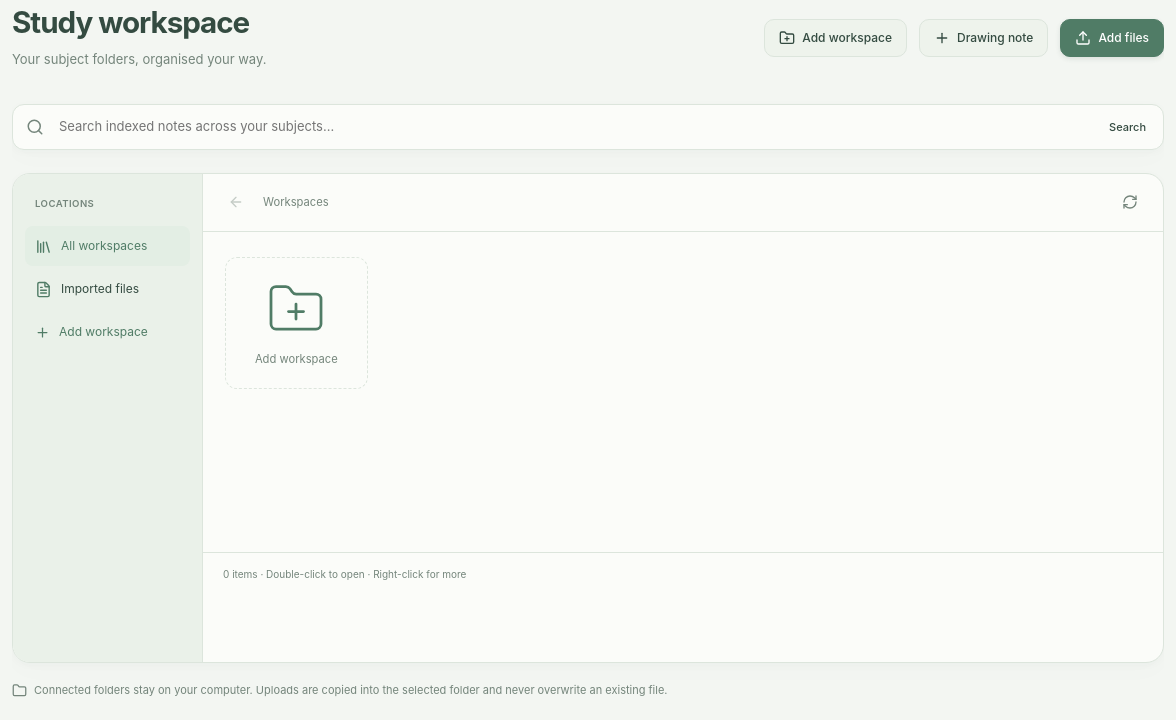
Scenario: workspace search result layout › groups slide matches into one compact file row and also finds filenames
Type "L2" into the field. click: [572, 127]
box: [52,110,1091,144]
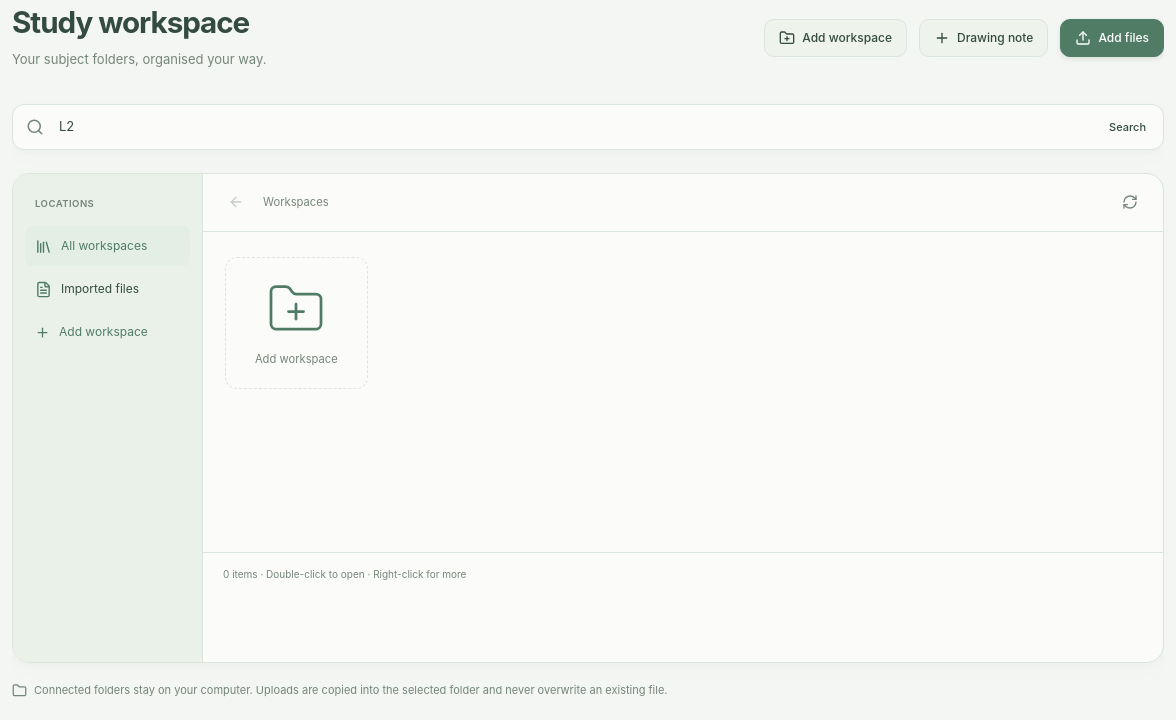
Click the button "Search". click: [1128, 127]
box: [1099,113,1156,141]
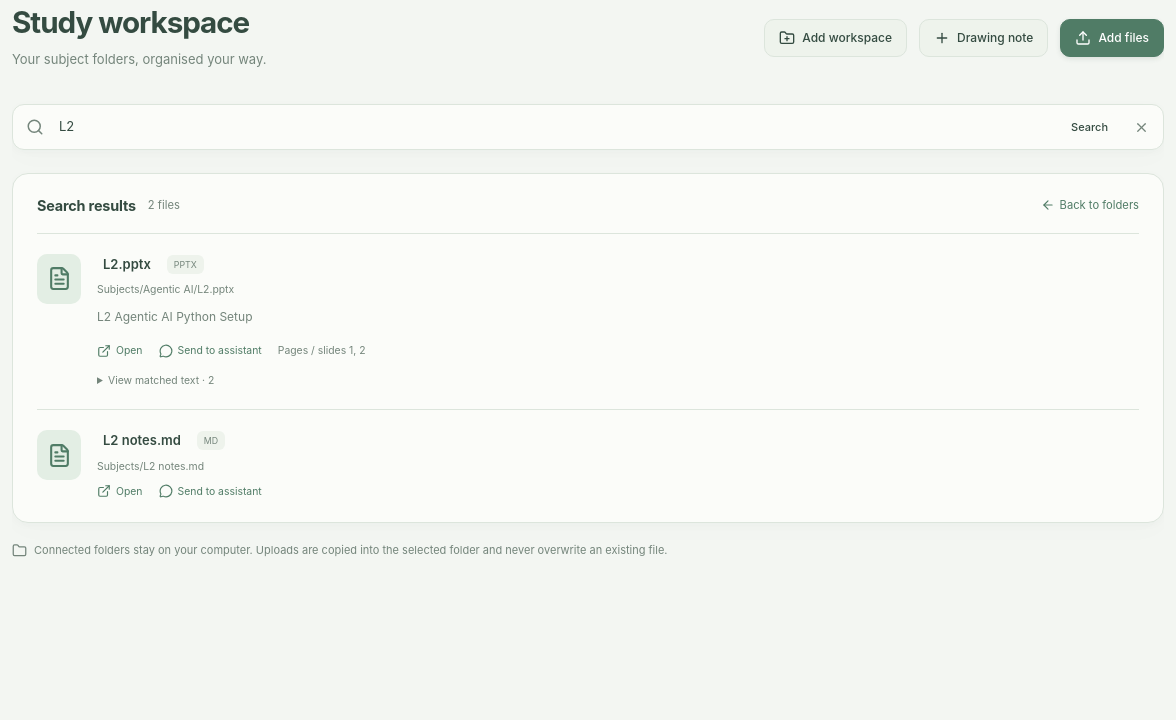
Expected: the text "2 files" is shown, [148,197,180,214]
Expected: the number of elements with class "workspace-search-row" is 2, [37,234,1139,410]; [37,430,262,502]
Expected: the number of elements with class "search-match-details" is 1, [108,374,214,387]
